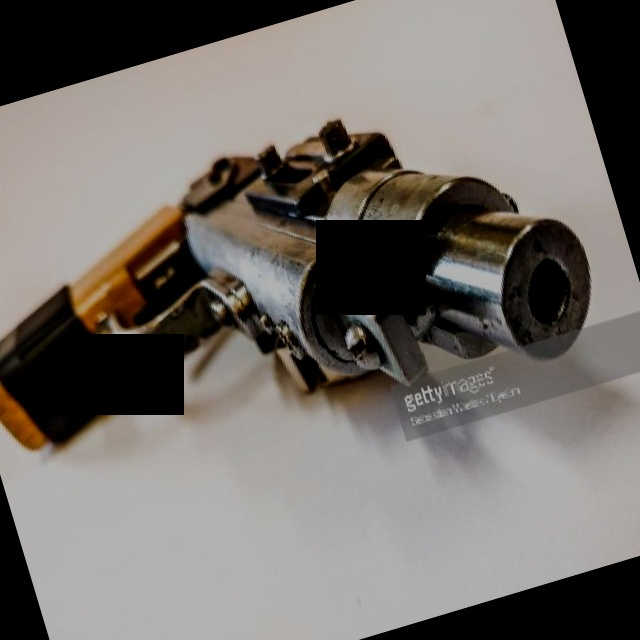gun: (0, 65, 617, 517)
